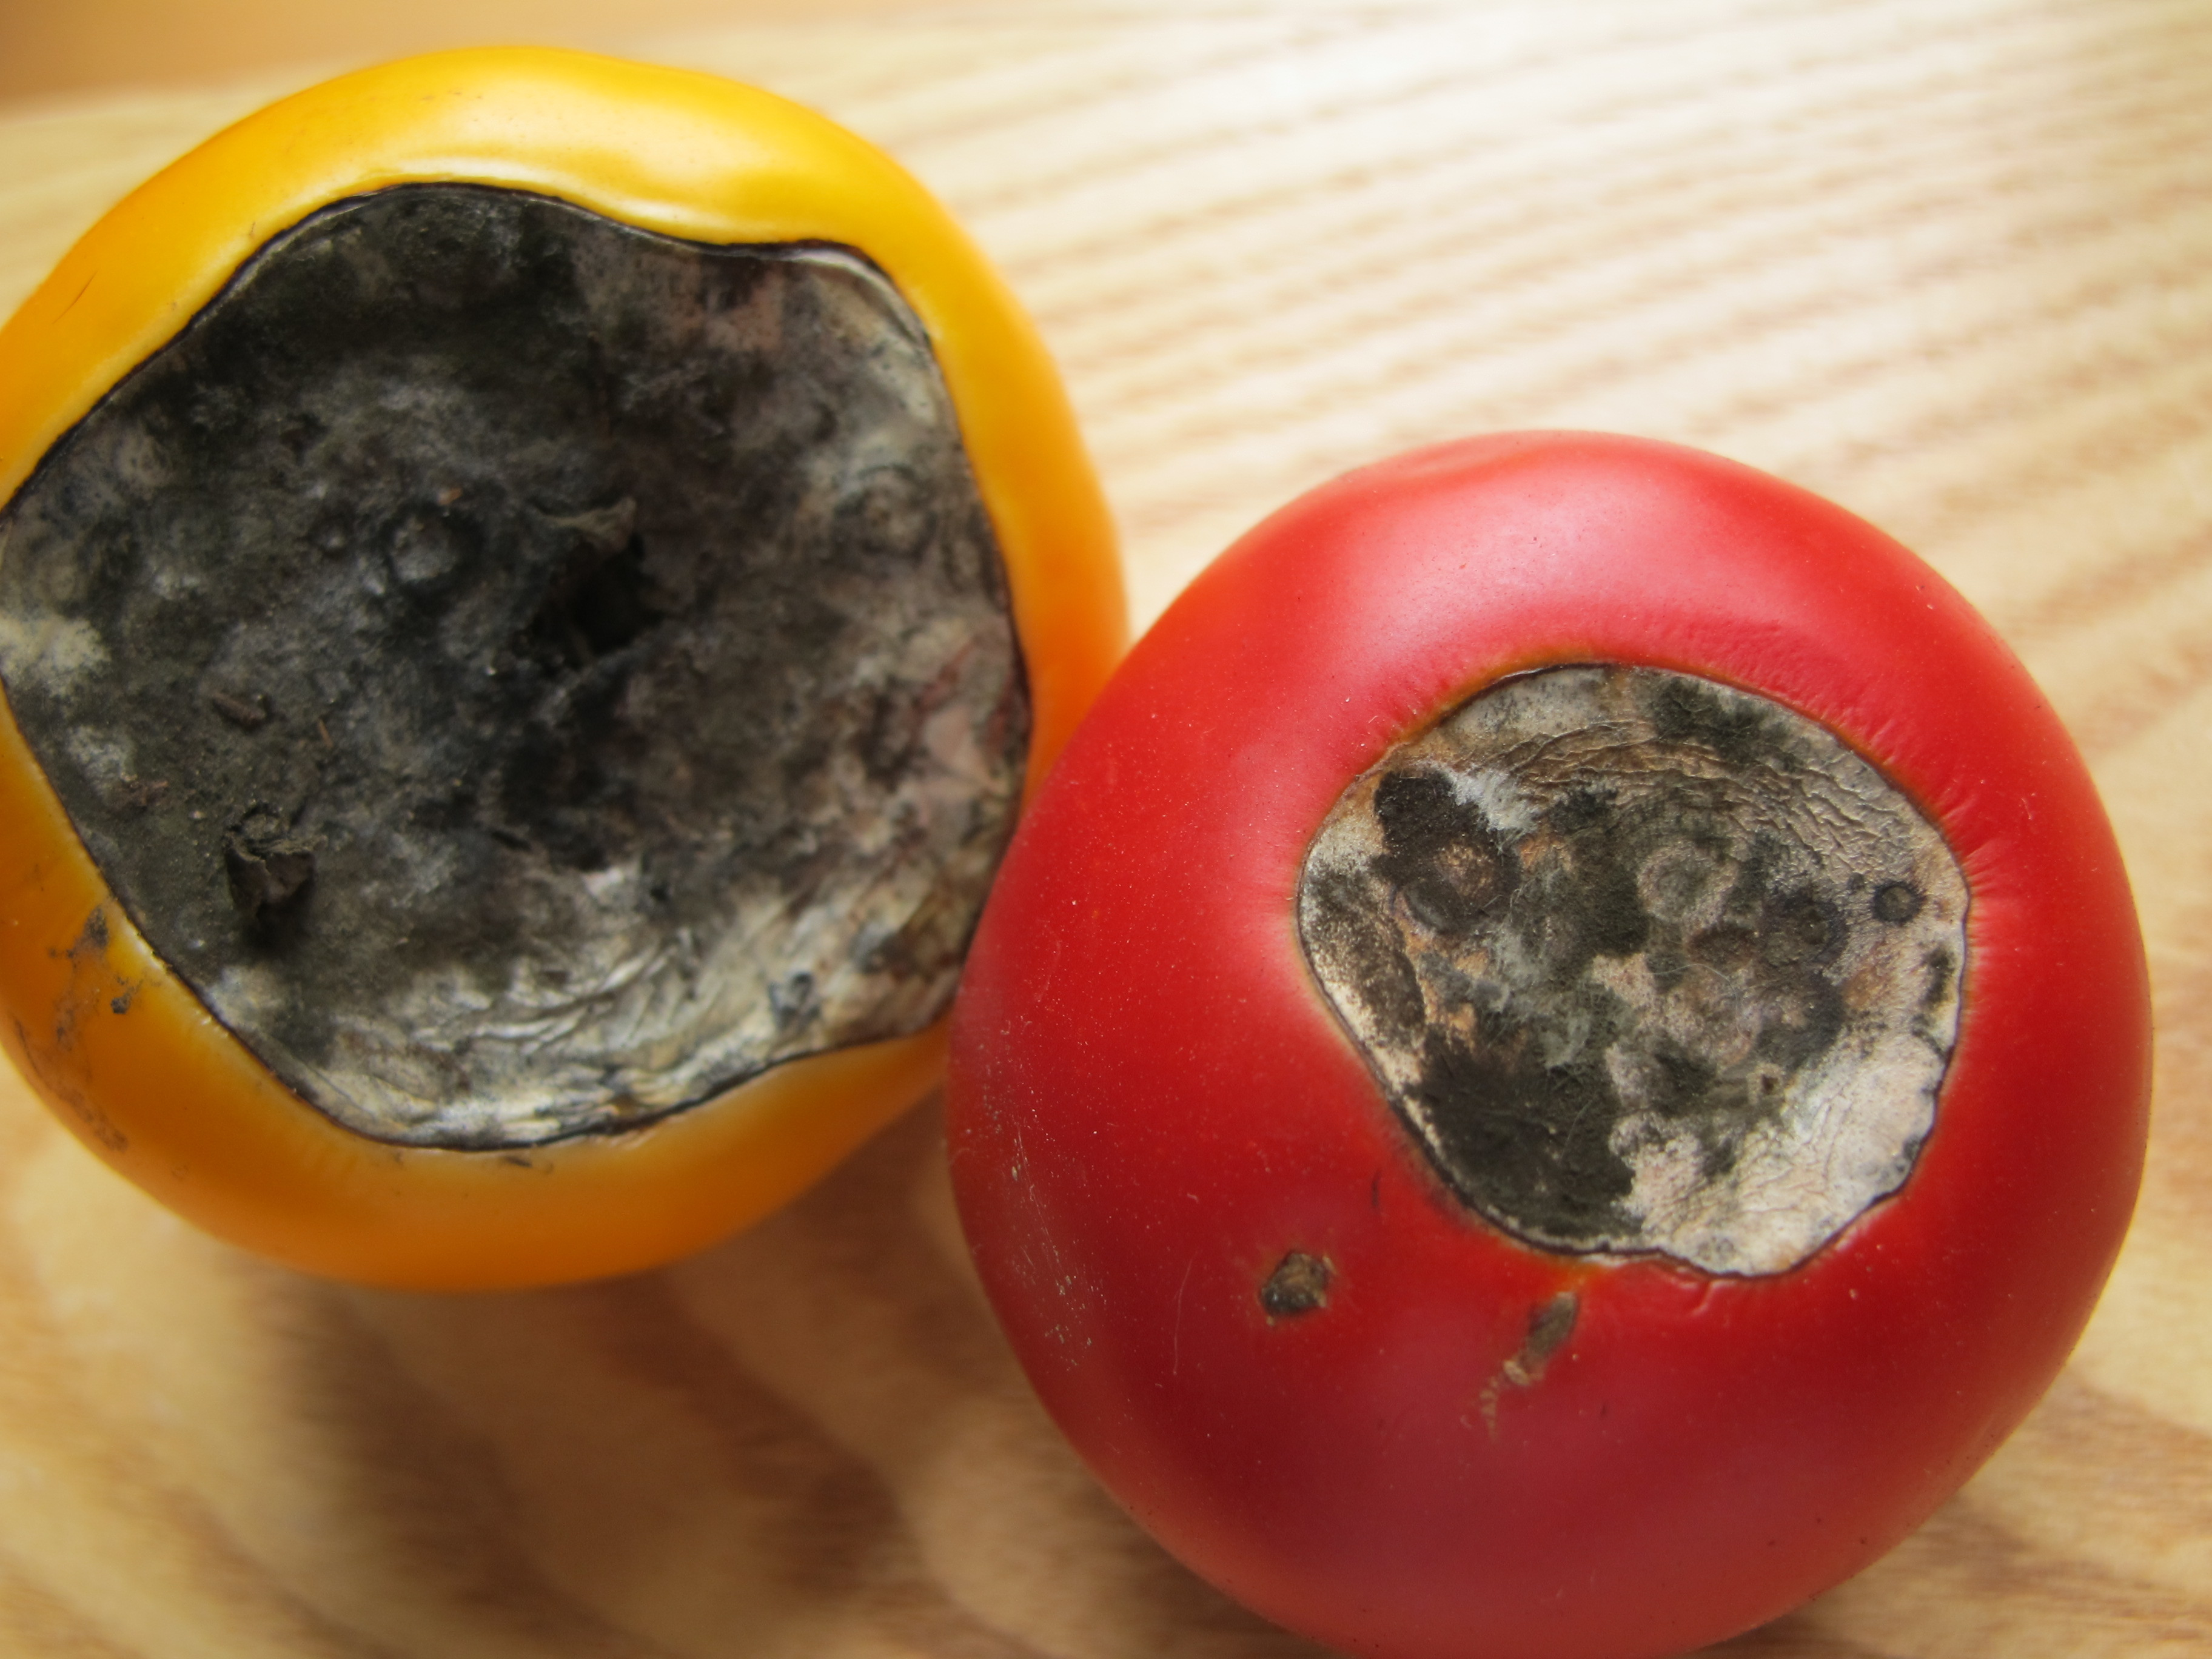blossom_rotw: (75, 136, 1014, 1166), (1261, 605, 2000, 1373)
